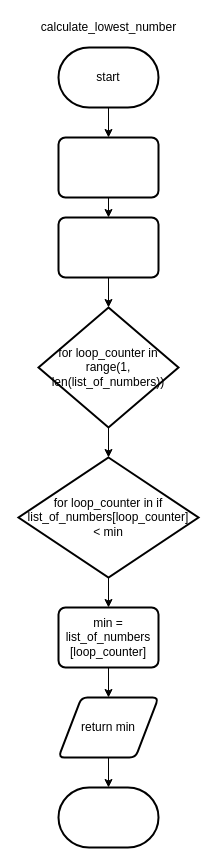
Image size: 216x865. Some labels were removed from this diagram. The centre of each missing label's shape, as x and y in pixels:
"get random numbers" goes at pixel 108 167.
"min = list_of_numbers[0]" goes at pixel 108 247.
"stop" goes at pixel 108 817.
